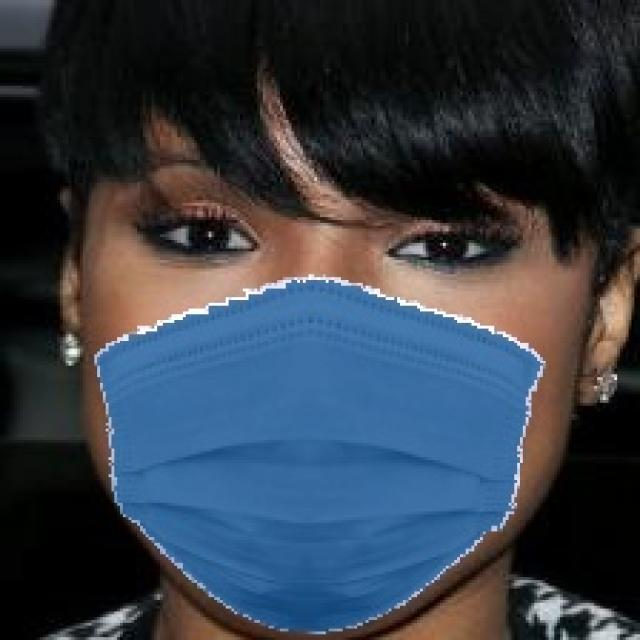mask: (81, 274, 546, 634)
